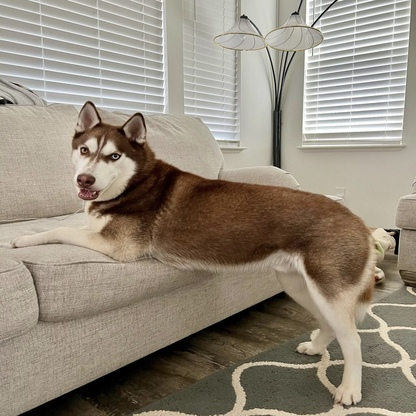husky: (1, 91, 384, 410)
